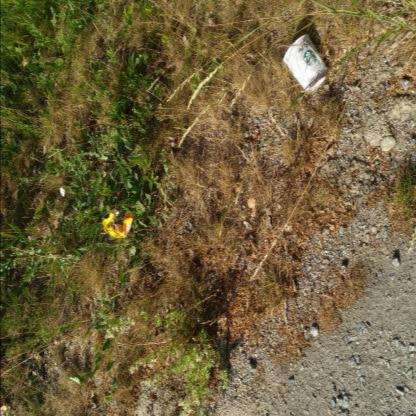Cup: (283, 34, 328, 94)
Plastic bag - wrapper: (102, 209, 133, 238)
